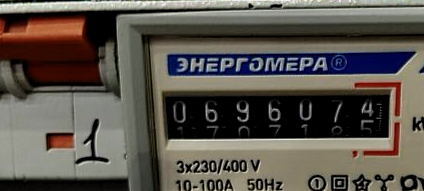0: (170, 98, 189, 123), (297, 96, 314, 122)
4: (359, 95, 375, 117)
5: (359, 118, 375, 138)
6: (265, 95, 283, 123), (202, 97, 220, 122)
7: (329, 97, 345, 123)
9: (234, 96, 250, 122)
screen: (152, 78, 405, 159)
